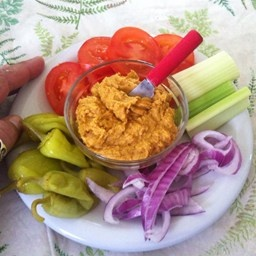background: (0, 10, 101, 96)
